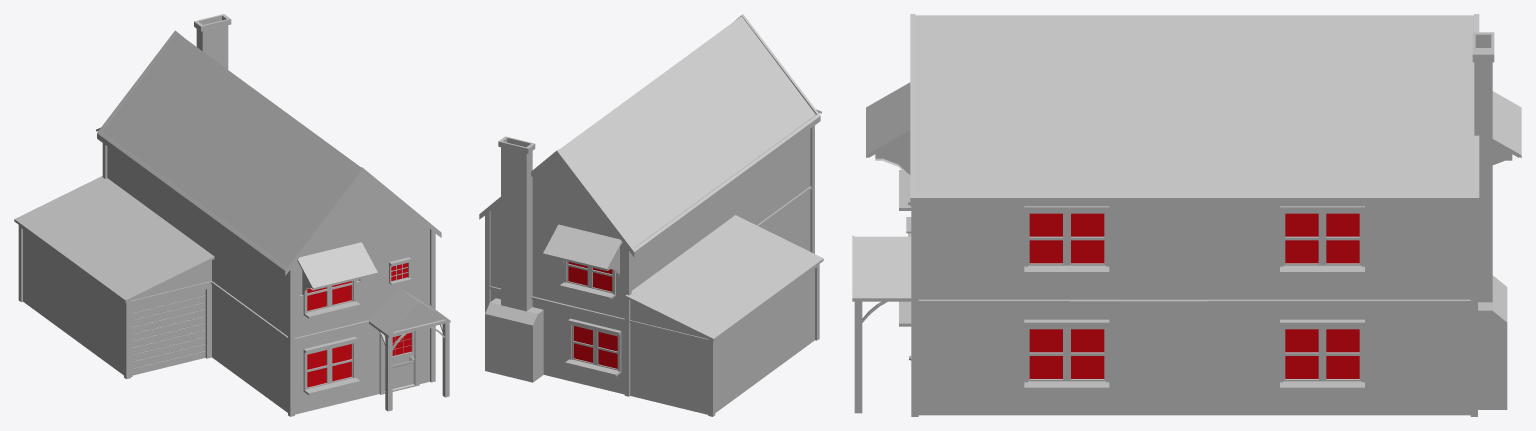
File: SM_ordinary_houses_04.gltf
3 views of the same model, side by side, from view 1: azimuth 30°, elevation 25°; view 2: azimuth 150°, elevation 25°; view 3: azimuth 270°, elevation 25° (orthographic). The views are drawn at different scales.
Parts seen in each view (by area): view 1: ordinary_houses_04; view 2: ordinary_houses_04; view 3: ordinary_houses_04.
Part boxes in pixels (x1,y1,x2,y2): ordinary_houses_04: (14, 14, 450, 416); ordinary_houses_04: (479, 14, 823, 416); ordinary_houses_04: (852, 14, 1521, 416).
Size of the model in its own units: 10 by 9.22 by 16.
